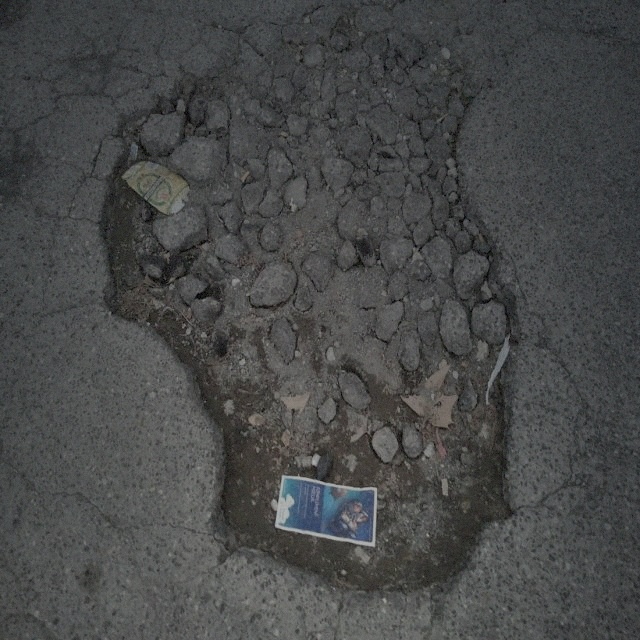pothole: (95, 29, 518, 607)
